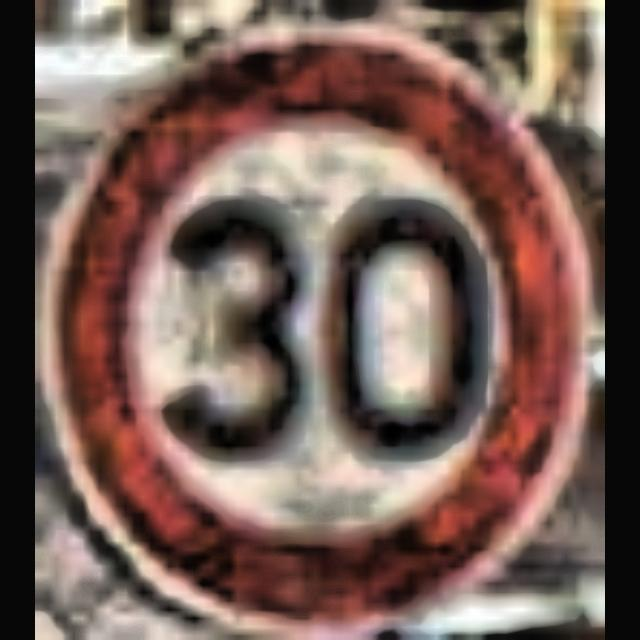speed_30: (35, 1, 597, 632)
